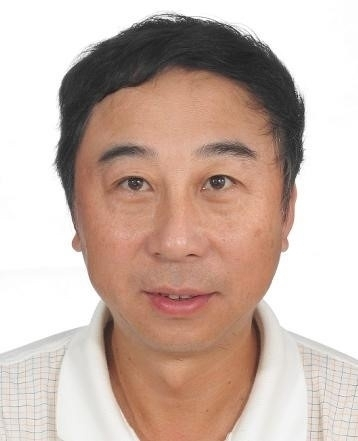unmask: (79, 101, 278, 343)
